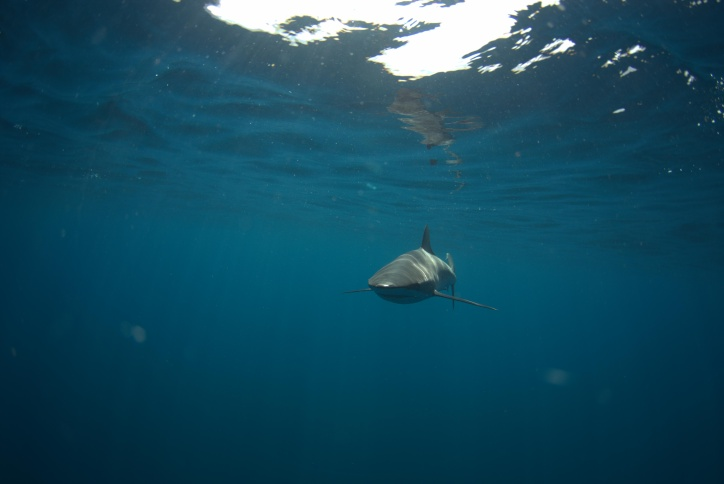Sedoso: (331, 221, 506, 325)
